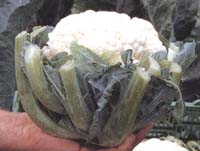cauliflower: (16, 9, 197, 149)
